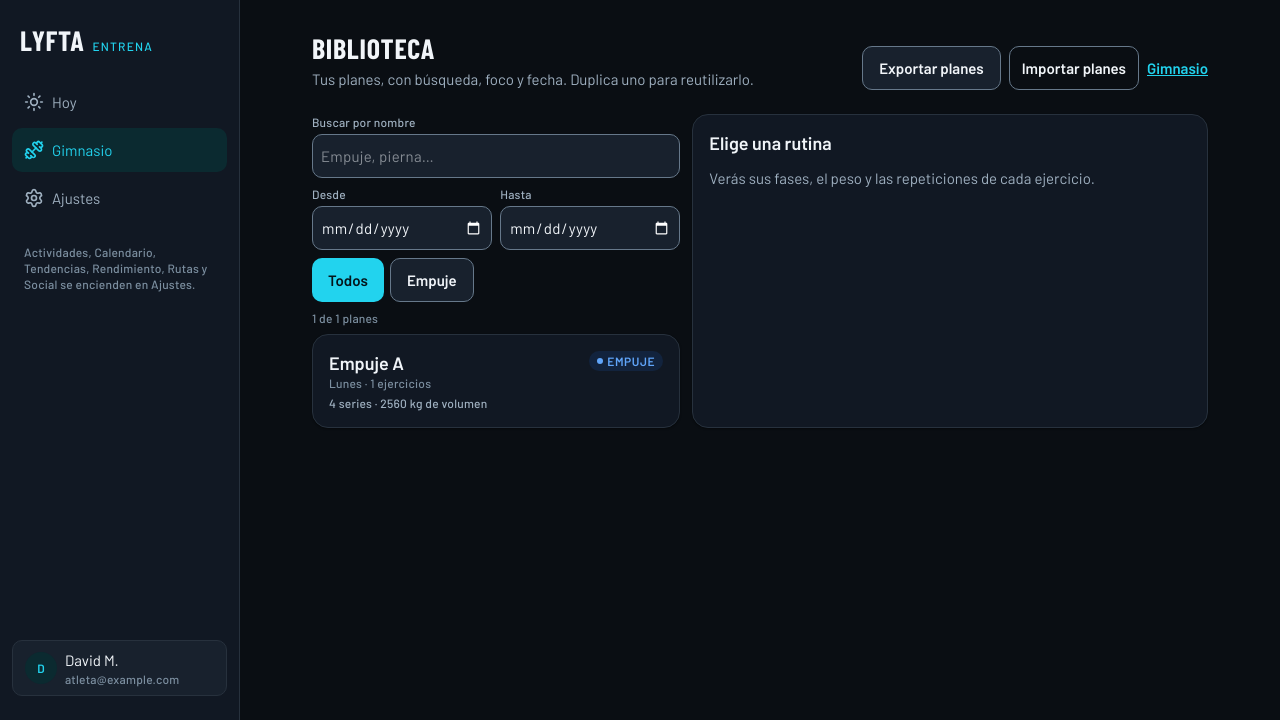
Test: biblioteca de entrenamientos › agrupa la rutina por fases y muestra peso, series y descanso
Expected: the heading "Biblioteca" is shown, [312,31,435,65]
Expected: the button "Empuje" is shown, [390,258,474,302]
Click the button "Empuje A": coordinates (496, 381) [312,334,680,428]
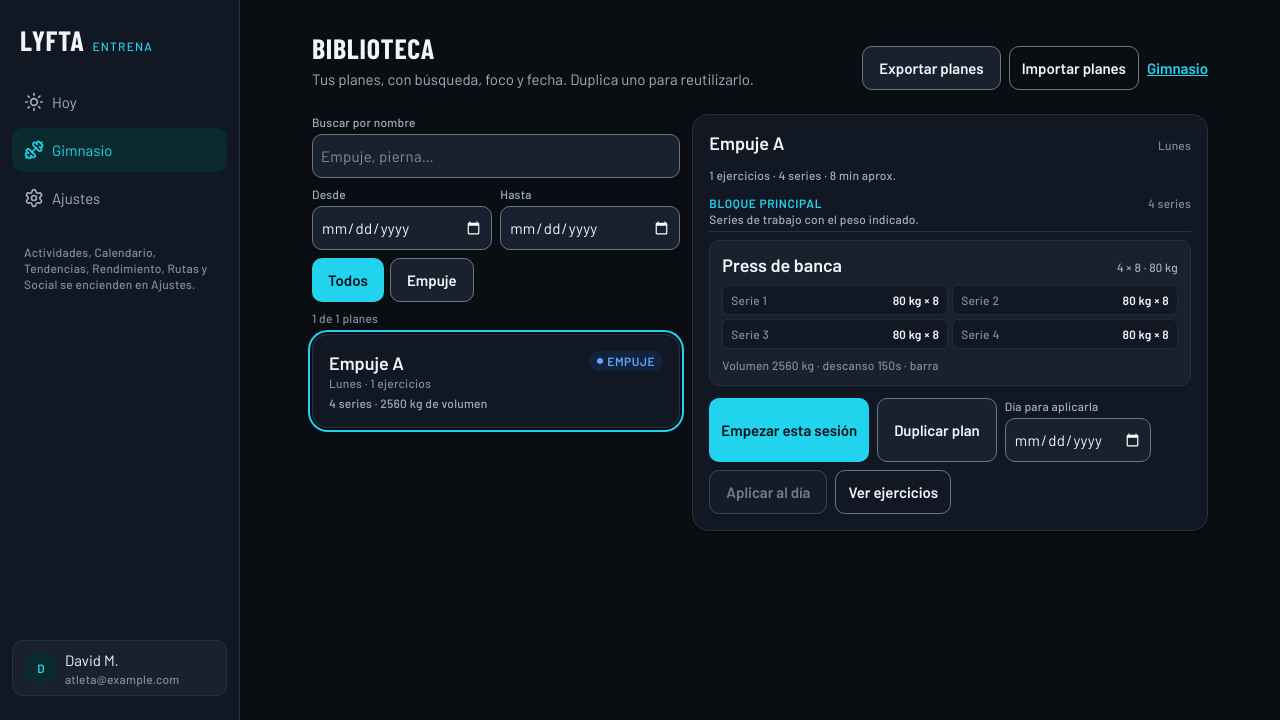
Result: the heading "Bloque principal" is shown at [709,196,822,210]
Result: the text "4 × 8 · 80 kg" is shown at [1117,259,1178,275]
Result: the text "Volumen 2560 kg · descanso 150s · barra" is shown at [722,358,939,372]
